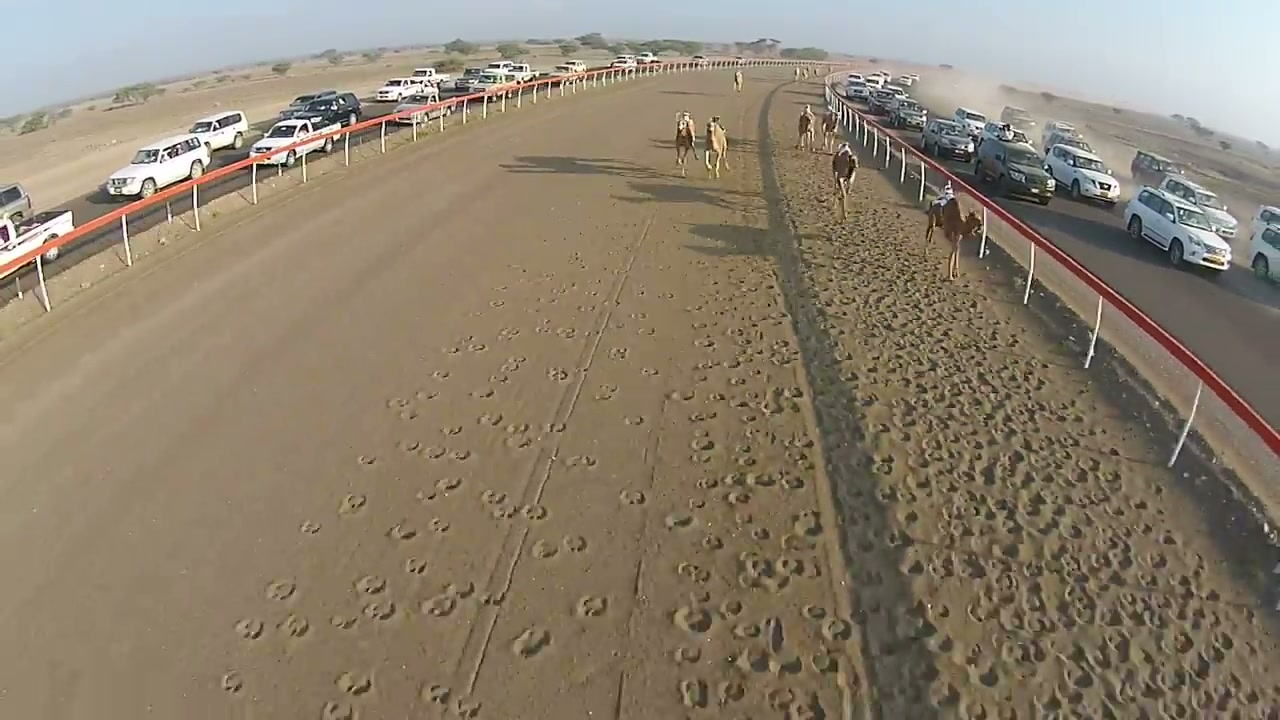animal_foot_print: (298, 158, 1273, 717), (449, 266, 840, 716), (619, 260, 853, 716), (904, 557, 1249, 703), (942, 487, 1169, 592), (944, 514, 1202, 583), (431, 460, 553, 527), (692, 432, 782, 486), (726, 618, 805, 677), (325, 575, 397, 632), (726, 624, 769, 675), (421, 582, 474, 617), (1034, 685, 1093, 715), (776, 692, 826, 719), (1063, 653, 1101, 687), (512, 626, 551, 657), (673, 606, 713, 633), (775, 554, 821, 577), (922, 681, 961, 707), (336, 671, 372, 696), (422, 592, 457, 617), (679, 678, 708, 708), (767, 654, 805, 676), (362, 597, 396, 621), (762, 617, 784, 654), (969, 661, 1000, 687), (445, 335, 485, 355), (279, 613, 310, 637), (901, 558, 944, 575), (717, 680, 746, 705), (793, 511, 822, 536), (576, 595, 607, 617), (808, 652, 839, 674), (784, 434, 813, 457), (320, 701, 357, 719), (266, 579, 296, 601), (420, 684, 451, 705), (489, 363, 518, 385), (452, 697, 480, 719), (338, 493, 366, 515), (235, 618, 264, 639), (729, 391, 760, 410), (355, 575, 386, 594), (758, 394, 786, 415), (220, 670, 243, 695), (733, 445, 757, 468), (530, 540, 559, 559), (387, 522, 417, 540), (664, 511, 694, 529), (897, 508, 920, 531), (672, 645, 701, 663), (743, 472, 777, 487), (503, 433, 534, 449), (561, 535, 587, 553), (490, 502, 517, 519), (521, 504, 548, 521), (687, 409, 719, 423), (722, 488, 750, 504), (404, 557, 428, 575), (499, 356, 526, 372), (564, 455, 597, 468), (414, 489, 442, 504), (330, 614, 358, 629), (435, 477, 462, 492), (690, 449, 715, 465), (481, 489, 506, 505), (427, 517, 450, 534), (701, 534, 724, 551), (619, 490, 646, 504), (420, 446, 449, 459), (428, 517, 450, 534), (477, 412, 503, 426), (595, 384, 617, 400), (504, 423, 530, 436), (470, 387, 496, 400), (780, 385, 804, 399), (547, 367, 569, 382), (691, 436, 714, 450), (687, 496, 707, 512), (696, 477, 720, 490), (400, 440, 422, 454), (667, 390, 695, 401), (386, 397, 411, 409), (415, 388, 439, 400), (450, 449, 472, 462), (608, 347, 629, 360), (299, 521, 320, 534), (534, 318, 552, 333), (555, 327, 576, 339), (357, 454, 377, 466), (1271, 561, 1279, 589), (440, 425, 462, 435), (544, 423, 566, 433), (431, 370, 450, 381), (693, 372, 710, 384), (441, 345, 461, 355), (685, 304, 705, 314), (467, 342, 487, 352), (636, 327, 656, 336), (641, 367, 660, 376), (577, 304, 596, 313), (628, 312, 648, 320), (633, 286, 647, 297), (492, 284, 509, 292), (659, 292, 675, 299), (490, 301, 504, 308)
